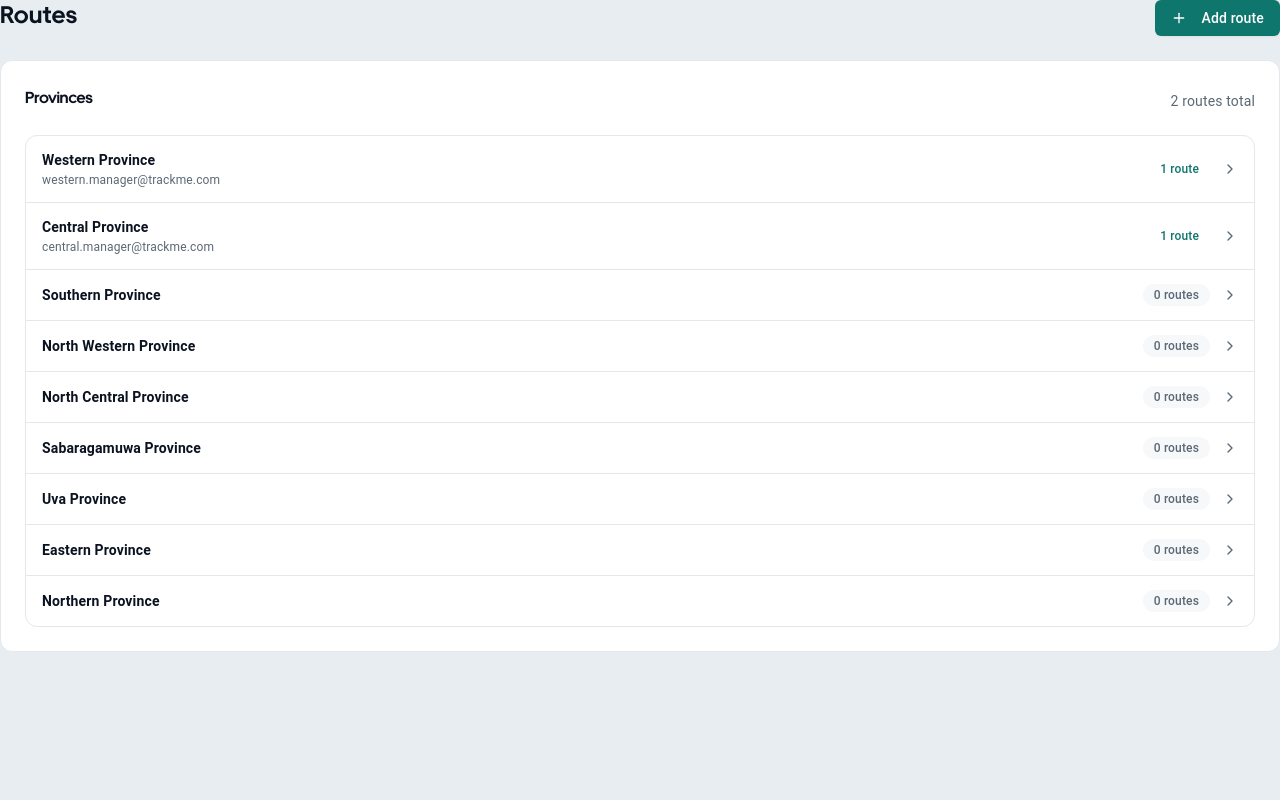
Test: RoutesPage › renders the create route form with required fields in a dialog
The width and height of the screenshot is (1280, 800).
Check: the field labelled "route id" is not shown
What coordinates should you click on to do the following:
click the button "Add route"
I would click on:
 (1218, 18)
Its box is [1155, 0, 1279, 36].
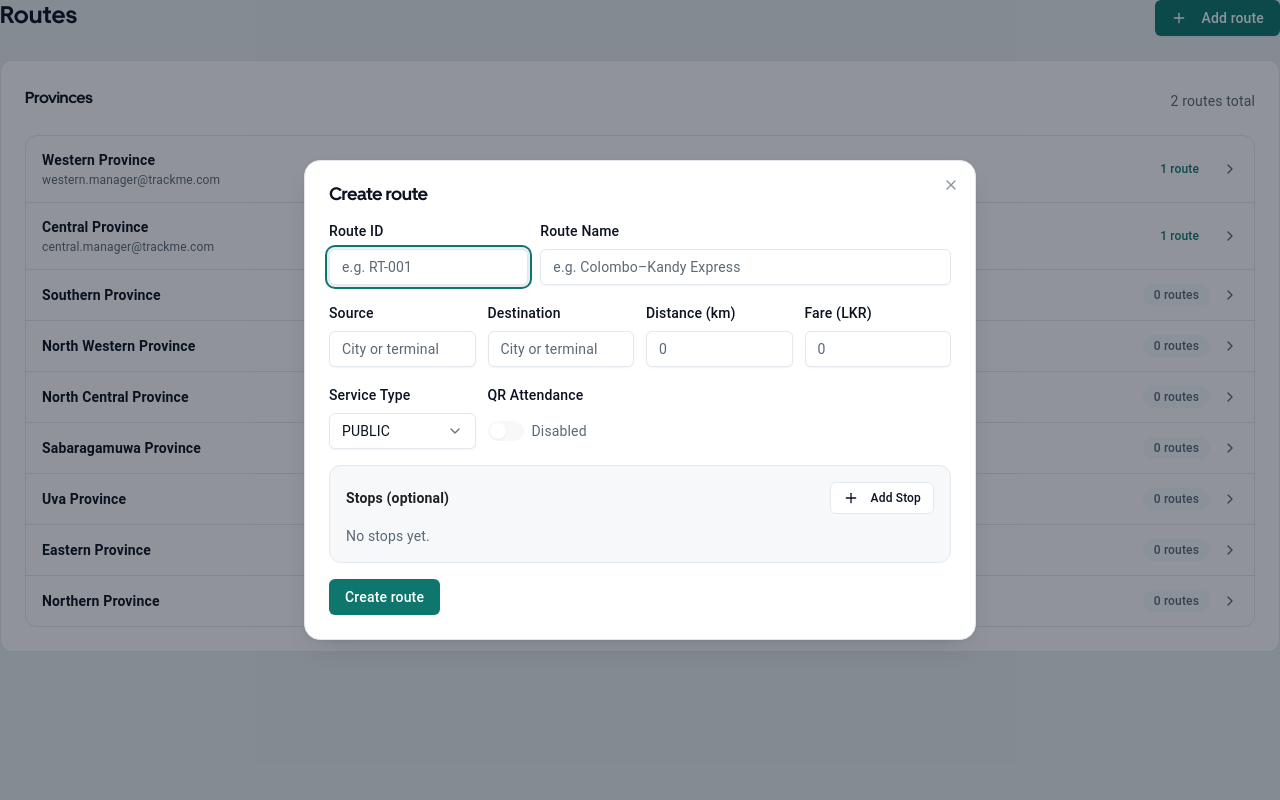
Check: the dialog is shown, box [304, 160, 976, 640]
Check: the field labelled "Route ID" is shown, box [329, 249, 528, 285]
Check: the field labelled "Route Name" is shown, box [540, 249, 951, 285]
